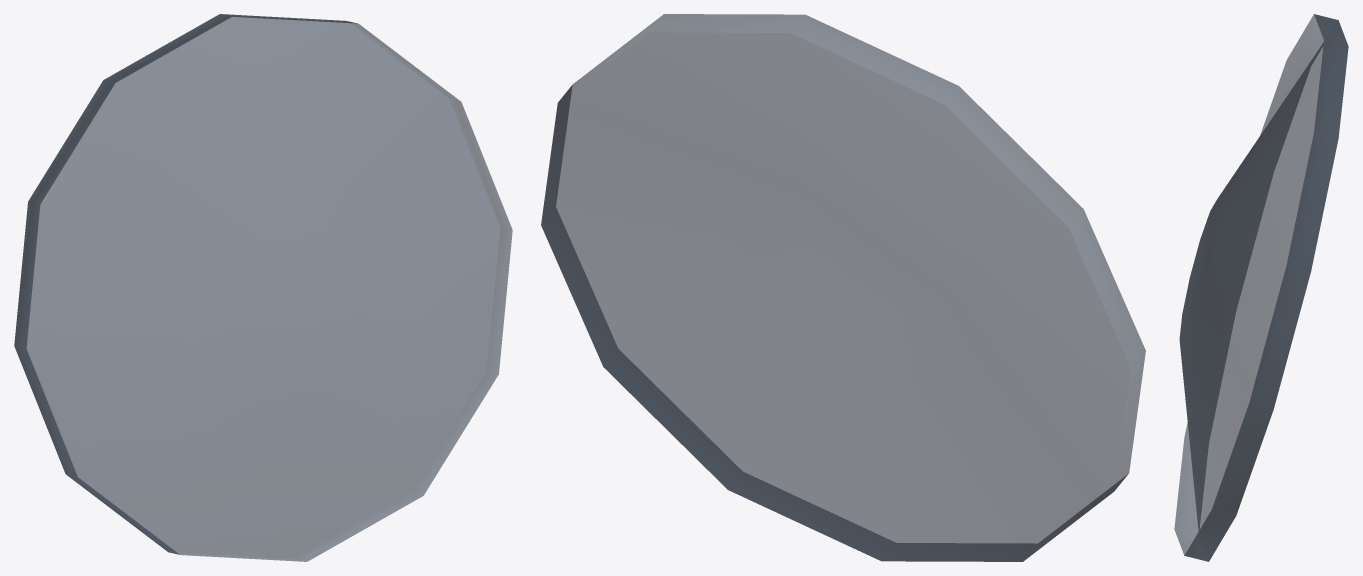
Rendered from original-21.obj.
The picture shows the model from 3 angles, left to right: view 1: azimuth 30°, elevation 25°; view 2: azimuth 150°, elevation 25°; view 3: azimuth 270°, elevation 25°; orthographic projection. The views are drawn at different scales.
Visible parts, largest first — view 1: #ID308; view 2: #ID308; view 3: #ID308.
Part boxes in pixels (x1,y1,x2,y2): #ID308: (14,14,512,561); #ID308: (541,14,1145,561); #ID308: (1174,14,1348,561).
Size of the model in its own units: 0.0767 by 0.0748 by 0.0239.
